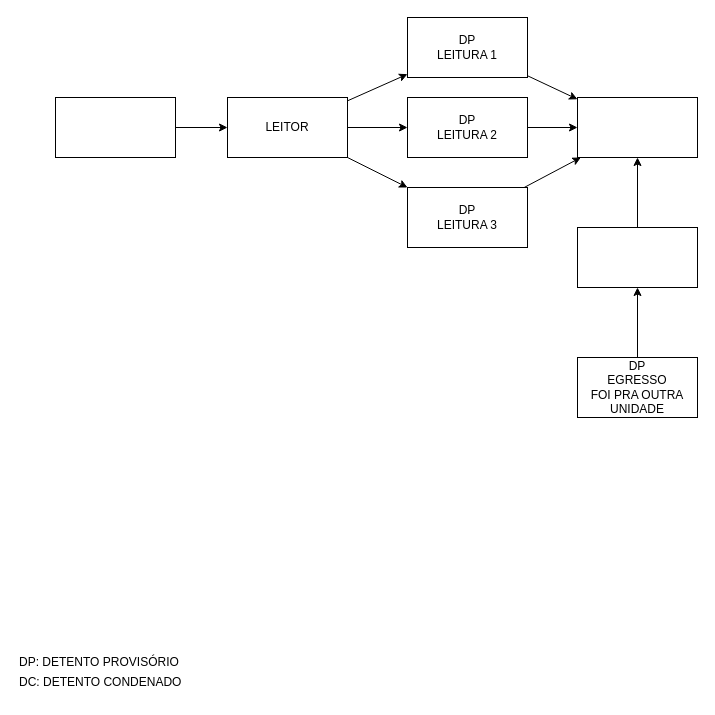
Some shapes in this 715 by 715 pixel diagram are drawn without their labels. Here are the shapes that lost their labels. From the top down, the centre of each, then its label:
[115,127]: DP RECOLHIDO MINHA UNIDADE
[637,127]: OFÍCIO (NECESSÁRIO PEC)
[637,257]: DC RECOLHIDO EM OUTRA UNIDADE
